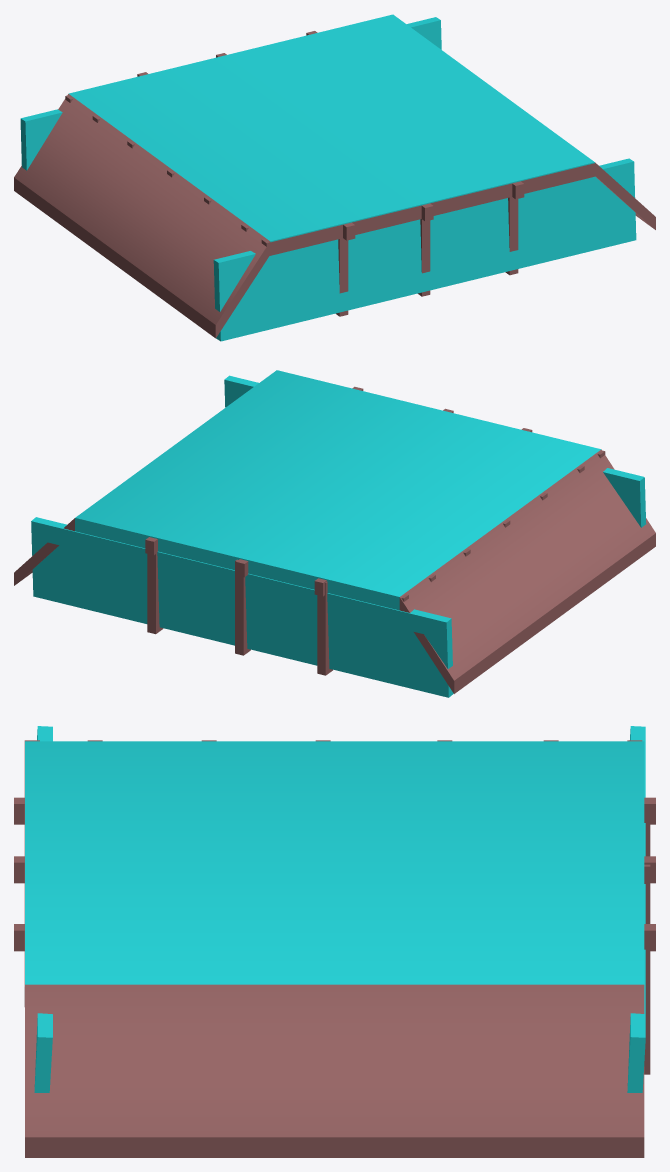
The model's file is WarehouseRoof.fbx.
3 renders of one model, top to bottom at view 1: azimuth 30°, elevation 25°; view 2: azimuth 150°, elevation 25°; view 3: azimuth 270°, elevation 25°, orthographic. The views are drawn at different scales.
Visible parts, largest first — view 1: pCube1, pCube18, pCube2, pCube19, pCube12, pCube14, pCube13; view 2: pCube1, pCube19, pCube18, pCube15, pCube17, pCube16; view 3: pCube1, pCube19, pCube18, pCube17, pCube9, pCube11.
Boxes of the visible parts, box(x1,y1,x2,y2) form: pCube1: box(14, 14, 655, 338); pCube18: box(213, 158, 636, 341); pCube2: box(261, 163, 595, 256); pCube19: box(20, 17, 441, 170); pCube12: box(505, 197, 518, 275); pCube14: box(336, 238, 348, 316); pCube13: box(418, 219, 430, 296); pCube1: box(14, 370, 655, 693); pCube19: box(31, 517, 453, 697); pCube18: box(224, 375, 646, 527); pCube15: box(317, 581, 332, 675); pCube17: box(147, 540, 163, 634); pCube16: box(235, 559, 250, 655); pCube1: box(25, 741, 644, 1157); pCube19: box(627, 726, 645, 1092); pCube18: box(34, 726, 52, 1092); pCube17: box(644, 932, 650, 1074); pCube9: box(14, 797, 655, 824); pCube11: box(14, 924, 655, 951).
Bounding box in the file's own units: 1641 × 338 × 1351.
